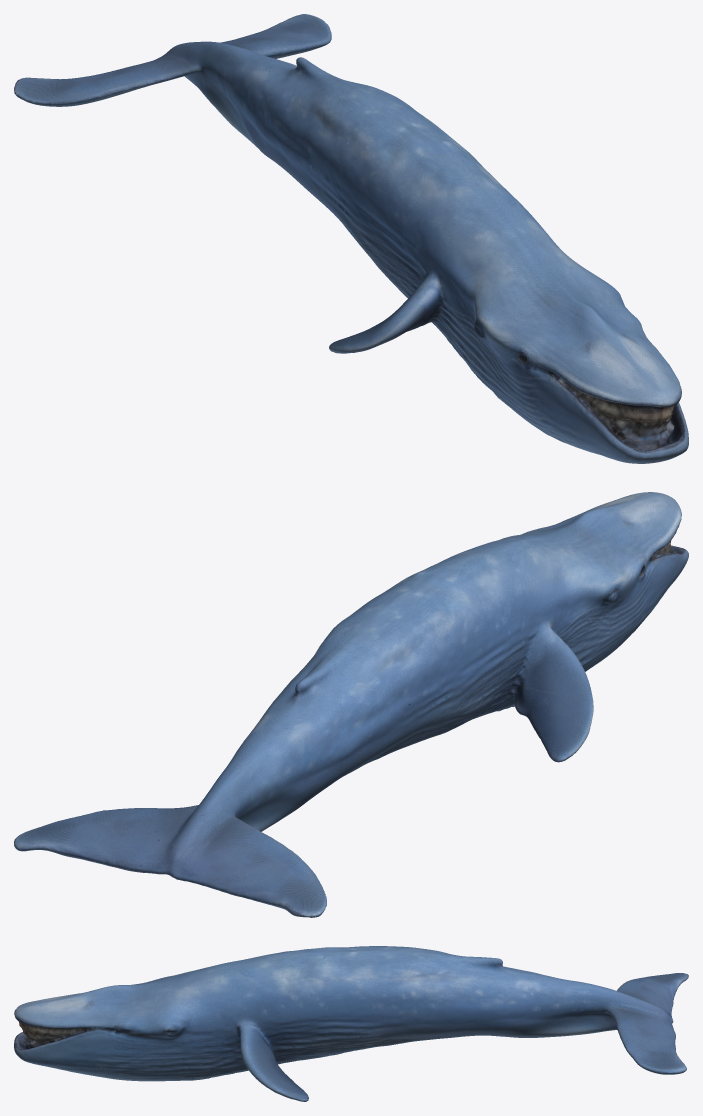
File: whale3D.glb
3 views of the same model, one above another, from view 1: azimuth 30°, elevation 25°; view 2: azimuth 150°, elevation 25°; view 3: azimuth 270°, elevation 25° (orthographic). The views are drawn at different scales.
Bounding box in the file's own units: 0.6962 × 0.4113 × 2.
1 material, 1 textured.
